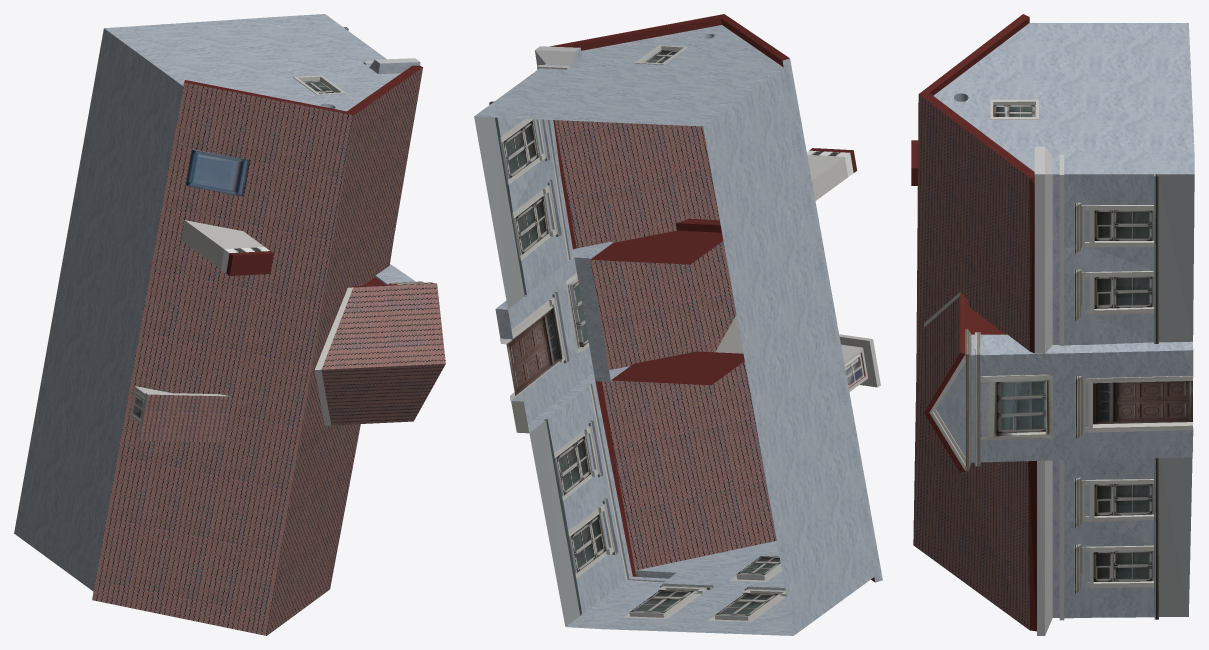
Rendered from Uus_35_1.obj.
The picture shows the model from 3 angles, left to right: view 1: azimuth 30°, elevation 25°; view 2: azimuth 150°, elevation 25°; view 3: azimuth 270°, elevation 25°; orthographic projection.
Visible parts, largest first — view 1: polySurface6; view 2: polySurface6; view 3: polySurface6.
Boxes of the visible parts, bbox=[...] form: polySurface6: bbox=[14, 14, 445, 635]; polySurface6: bbox=[474, 14, 882, 635]; polySurface6: bbox=[911, 14, 1194, 635].
Size of the model in its own units: 11.55 by 18.19 by 8.5.
